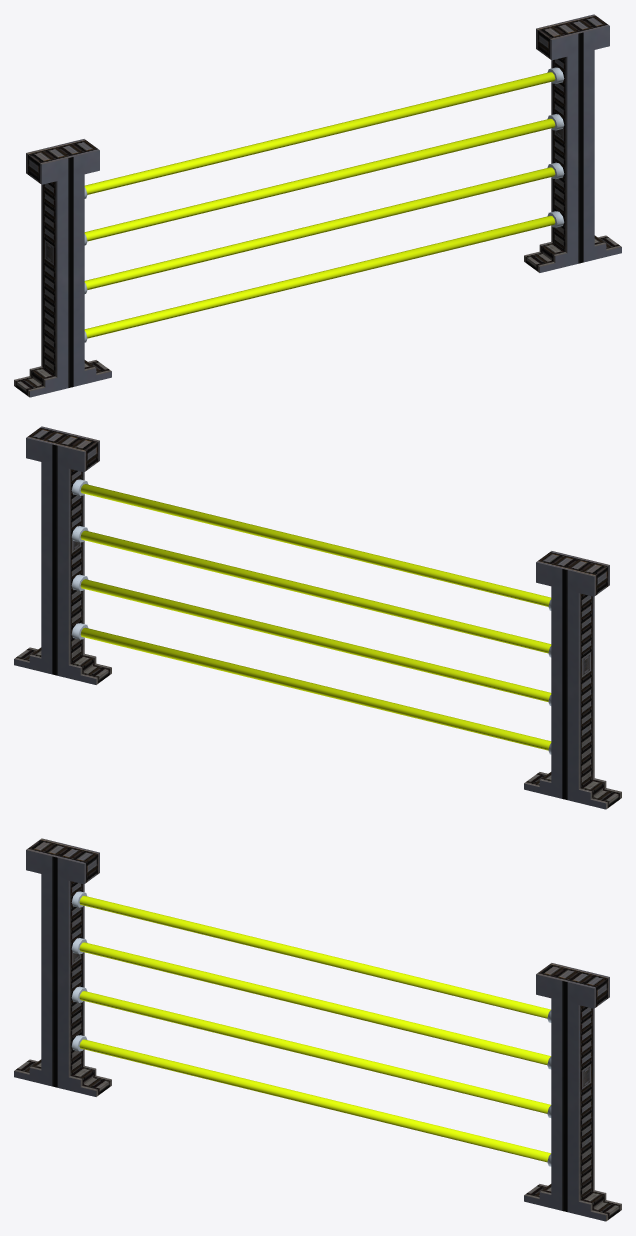
Rendered from level1_obtacle_wide.glb.
3 renders of one model, top to bottom at view 1: azimuth 30°, elevation 25°; view 2: azimuth 150°, elevation 25°; view 3: azimuth 330°, elevation 25°, orthographic.
Visible parts, largest first — view 1: Scifi_WidthLaser_barrier; view 2: Scifi_WidthLaser_barrier; view 3: Scifi_WidthLaser_barrier.
Part boxes in pixels (bbox=[...]): Scifi_WidthLaser_barrier: bbox=[14, 14, 621, 397]; Scifi_WidthLaser_barrier: bbox=[14, 426, 621, 809]; Scifi_WidthLaser_barrier: bbox=[14, 838, 621, 1221].
Size of the model in its own units: 5.93 by 2.2 by 0.2753.
Materials: 1 (1 with a texture image).
